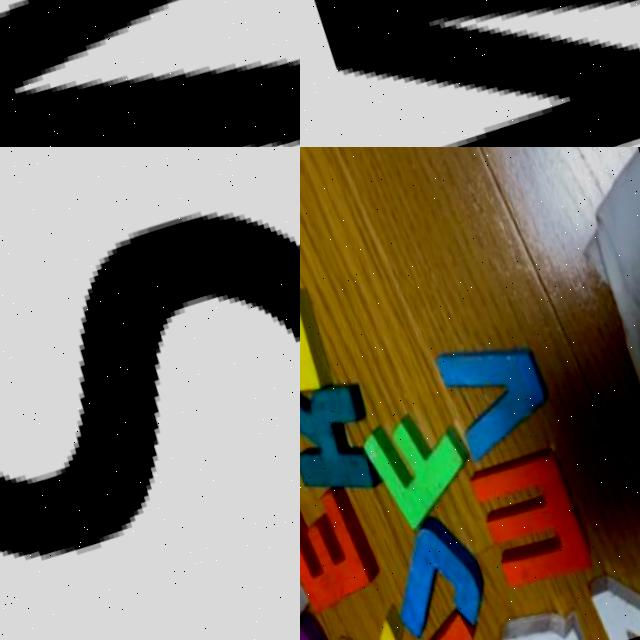E: (300, 479, 400, 612)
F: (355, 387, 490, 528)
G: (300, 603, 366, 640)
J: (384, 510, 501, 640)
K: (300, 371, 389, 494)
L: (300, 281, 348, 421)
M: (300, 0, 640, 147)
N: (0, 0, 300, 147)
S: (0, 147, 300, 640)
V: (427, 299, 566, 457)
W: (470, 434, 610, 596)
X: (325, 601, 439, 640)
